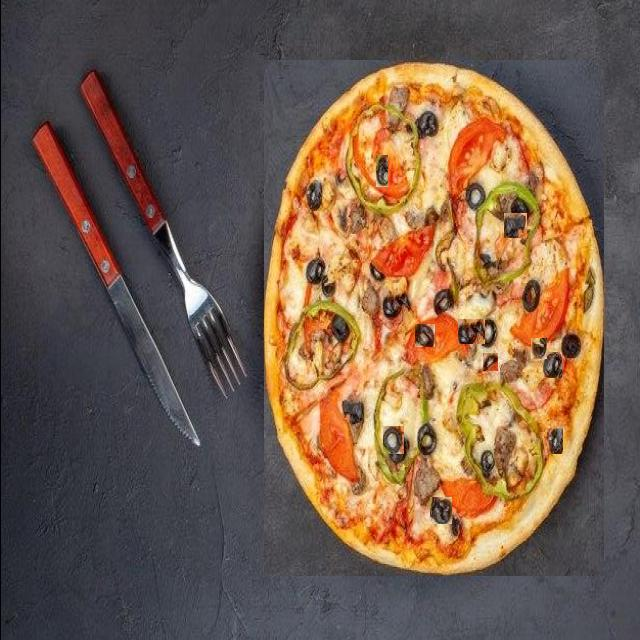olive: (457, 320, 484, 346), (430, 181, 452, 212), (326, 324, 348, 354), (429, 497, 451, 524), (382, 426, 403, 454), (503, 213, 526, 238), (370, 289, 389, 319), (462, 173, 479, 204), (286, 276, 306, 302), (520, 293, 536, 324), (542, 352, 561, 378), (414, 324, 434, 347), (546, 428, 562, 454), (375, 155, 387, 187), (337, 418, 357, 436), (530, 338, 546, 359), (482, 353, 497, 371)
pizza: (263, 60, 603, 576)
